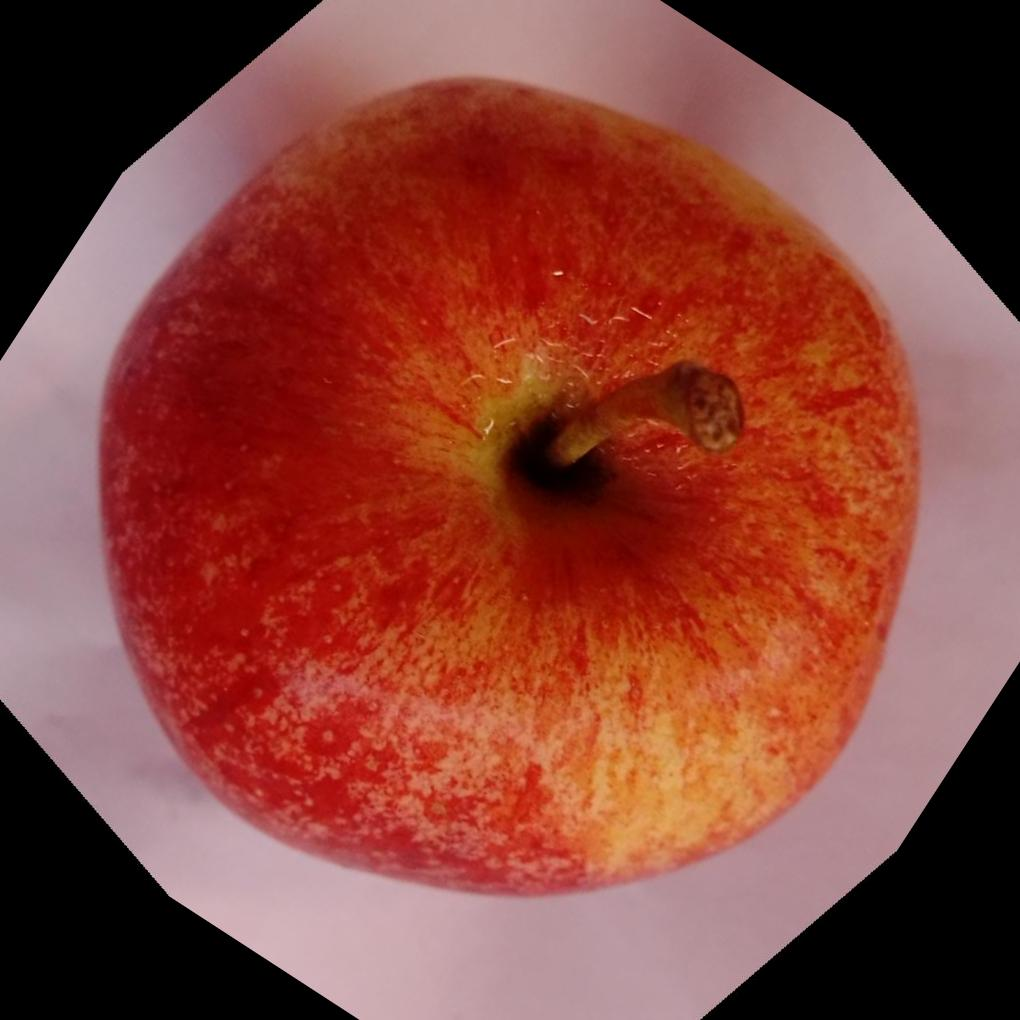FreshGuava: (97, 70, 925, 899)
